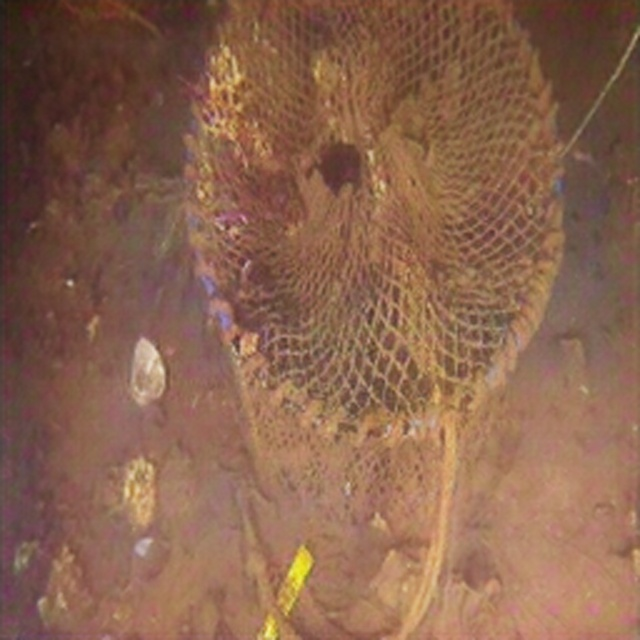mine: (180, 0, 568, 549)
